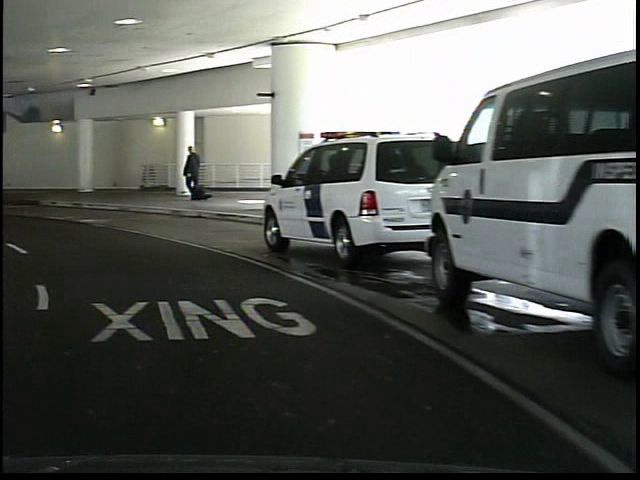person: (177, 145, 202, 204)
